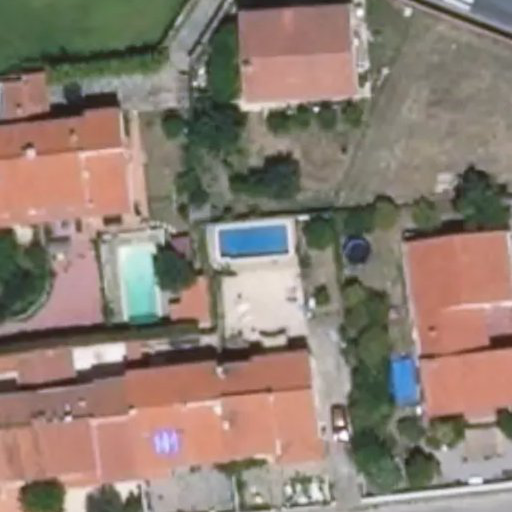pool: (215, 228, 296, 256)
